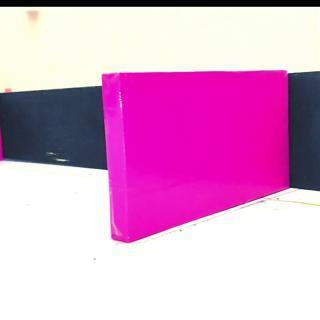xparking: (105, 76, 288, 226)
